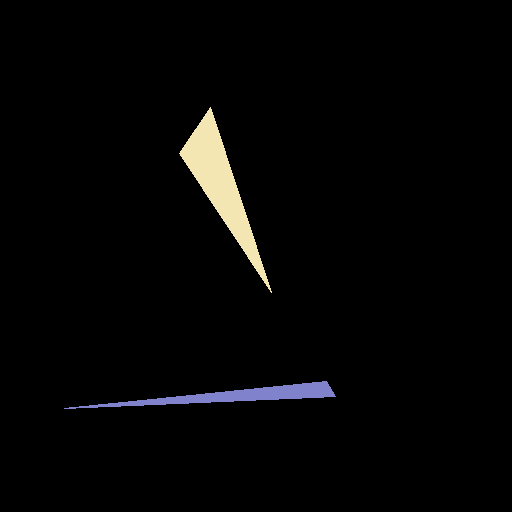triangle: (179, 107, 271, 292), (64, 381, 335, 408)
